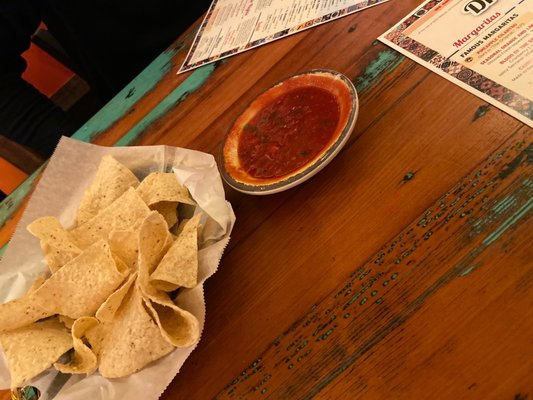sushi: (222, 70, 359, 193)
